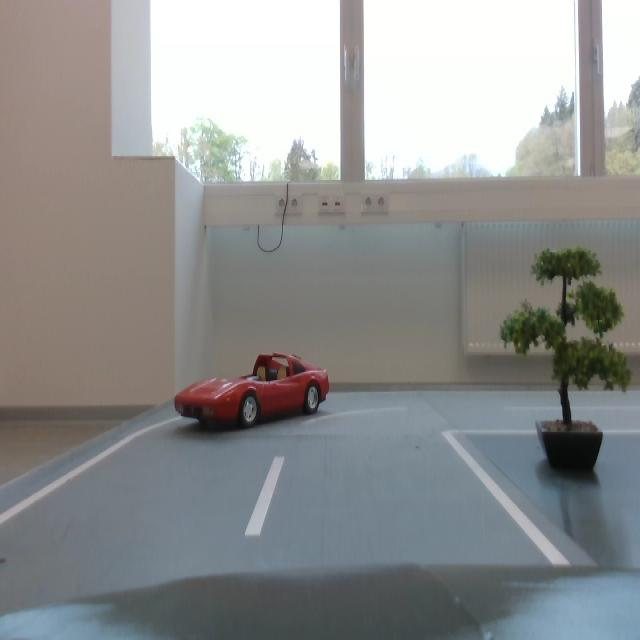car: (173, 348, 333, 431)
potted plant: (488, 249, 635, 424)
